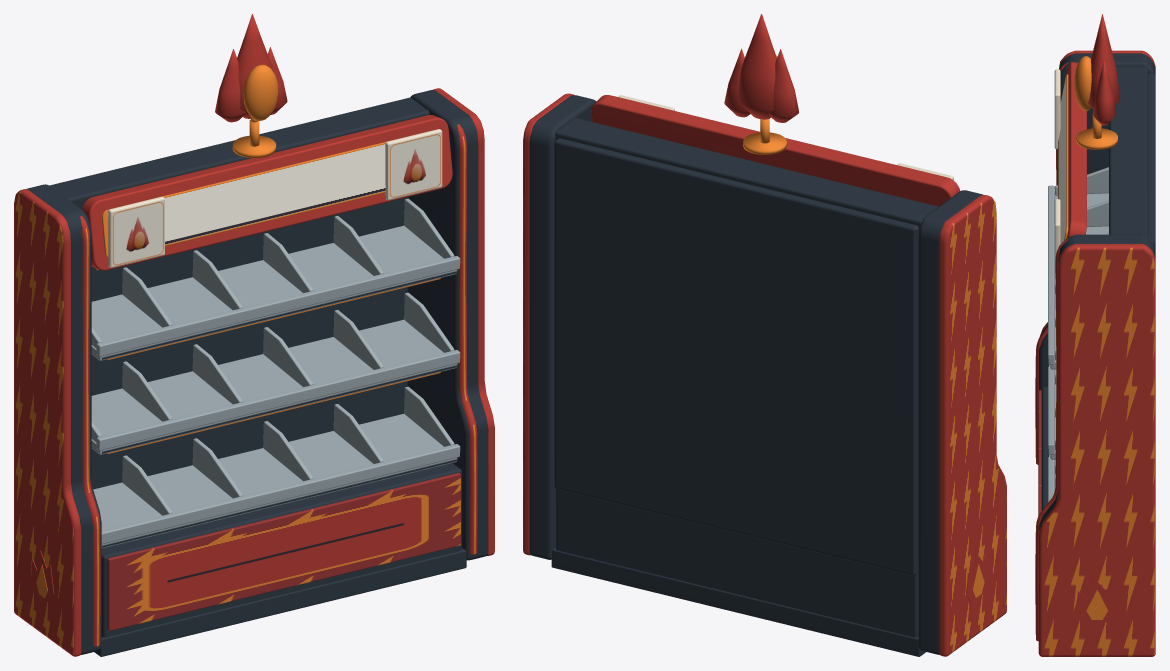
Rendered from TH_FIRE.fbx.
3 renders of one model, left to right at view 1: azimuth 30°, elevation 25°; view 2: azimuth 150°, elevation 25°; view 3: azimuth 270°, elevation 25°, orthographic. The views are drawn at different scales.
Visible parts, largest first — view 1: BaseFrontInset, Left_PaintedPanel, BackPanel.001, Right_StructuralWall, Tray_02, Tray_01, Tray_03, HeaderFace, HeaderBorder, TopCrossRail, Left_StructuralWall, ClosedSolidBase (+35 smaller); view 2: BackPanel.001, Left_PaintedPanel, ClosedSolidBase, Right_StructuralWall, HeaderBorder, Left_StructuralWall, TopCrossRail, LowerPlinth, Right_PaintedPanel, Dancing flame, Dancing flame.001, TopperMount (+1 smaller); view 3: Right_PaintedPanel, TopCrossRail, HeaderBorder, Left_StructuralWall, HeaderFace, Dancing flame, BackPanel.001, RightHousing, FrontLip_01, Right_StructuralWall, Relief.006, Dancing flame.002 (+15 smaller).
Boxes of the visible parts, box(x1,y1,x2,y2) form: BaseFrontInset: box(107, 472, 460, 630); Left_PaintedPanel: box(14, 189, 81, 656); BackPanel.001: box(91, 197, 407, 489); Right_StructuralWall: box(407, 90, 488, 560); Tray_02: box(91, 319, 457, 454); Tray_01: box(91, 225, 457, 360); Tray_03: box(93, 414, 457, 548); HeaderFace: box(102, 131, 428, 257); HeaderBorder: box(82, 115, 452, 270); TopCrossRail: box(49, 97, 429, 209); Left_StructuralWall: box(27, 184, 101, 654); ClosedSolidBase: box(101, 463, 461, 637); BackPanel.001: box(554, 138, 918, 575); Left_PaintedPanel: box(939, 195, 1006, 656); ClosedSolidBase: box(556, 488, 918, 637); Right_StructuralWall: box(529, 95, 596, 559); HeaderBorder: box(591, 95, 959, 206); Left_StructuralWall: box(918, 190, 983, 654); TopCrossRail: box(555, 118, 938, 232); LowerPlinth: box(551, 547, 925, 656); Right_PaintedPanel: box(523, 93, 573, 555); Dancing flame: box(737, 14, 776, 119); Dancing flame.001: box(768, 49, 798, 122); TopperMount: box(743, 132, 786, 154); Right_PaintedPanel: box(1038, 244, 1155, 656); TopCrossRail: box(1109, 67, 1147, 237); HeaderBorder: box(1067, 62, 1086, 237); Left_StructuralWall: box(1039, 53, 1155, 390); HeaderFace: box(1058, 74, 1068, 243); Dancing flame: box(1088, 14, 1120, 108); BackPanel.001: box(1148, 73, 1155, 249); RightHousing: box(1035, 239, 1068, 641); FrontLip_01: box(1048, 185, 1054, 364); Right_StructuralWall: box(1038, 234, 1155, 531); Relief.006: box(1075, 577, 1118, 622); Dancing flame.002: box(1092, 59, 1115, 125).
Size of the model in its own units: 3.62 by 4.68 by 0.9273.
